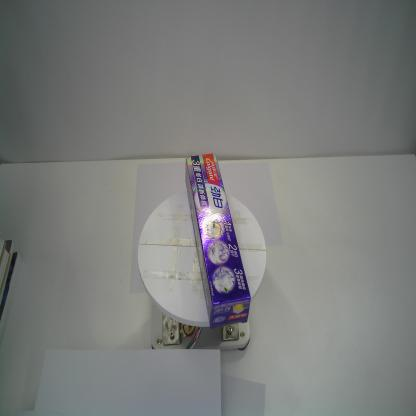Personal Hygiene: (185, 150, 252, 332)
